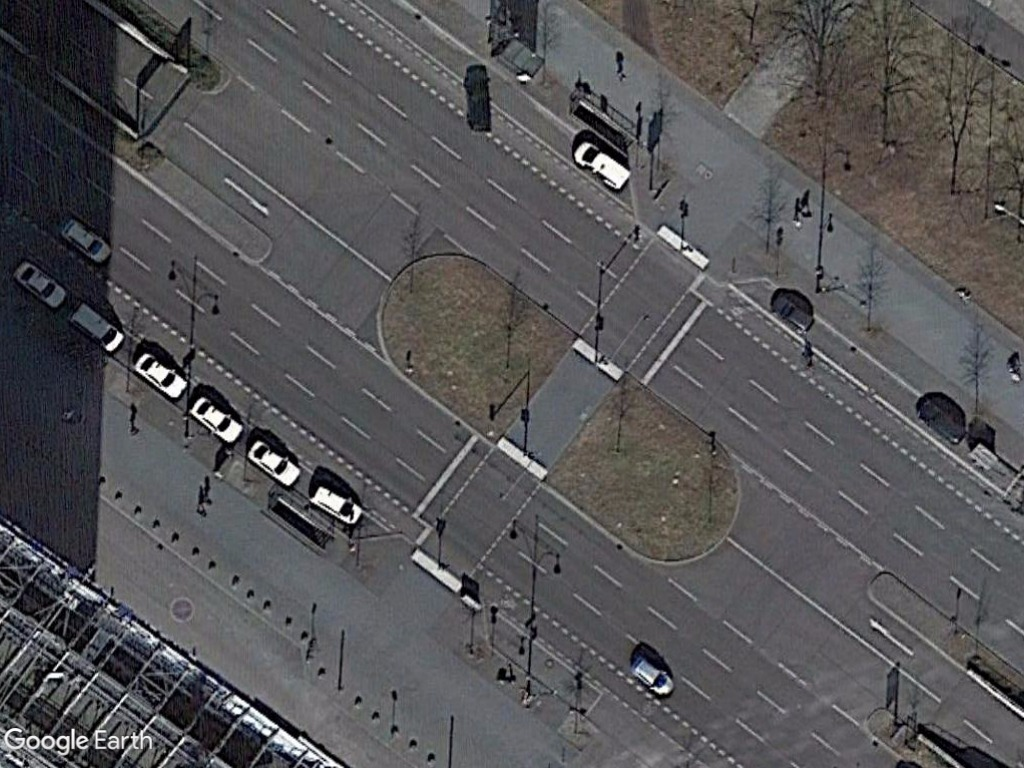car: (239, 432, 303, 491), (182, 389, 245, 448), (129, 344, 192, 402), (11, 256, 70, 312), (57, 213, 114, 268), (309, 478, 368, 528), (625, 648, 680, 701), (763, 285, 818, 338)
van: (569, 135, 635, 193), (66, 300, 128, 353)
